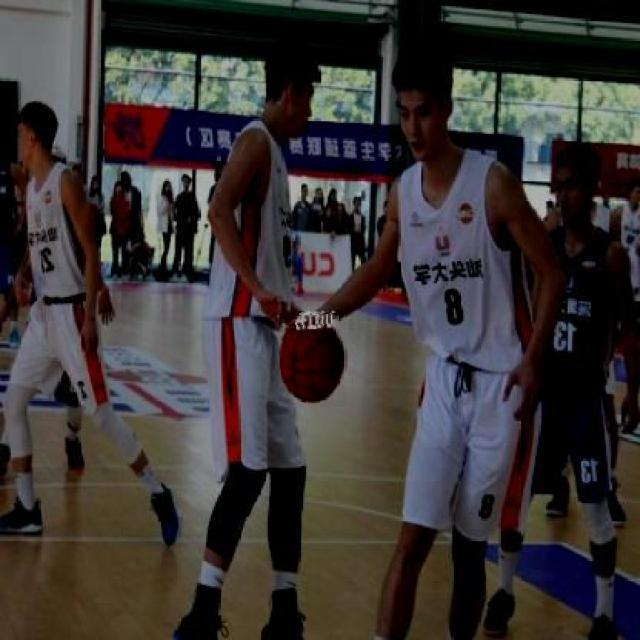Ball: (280, 313, 345, 407)
